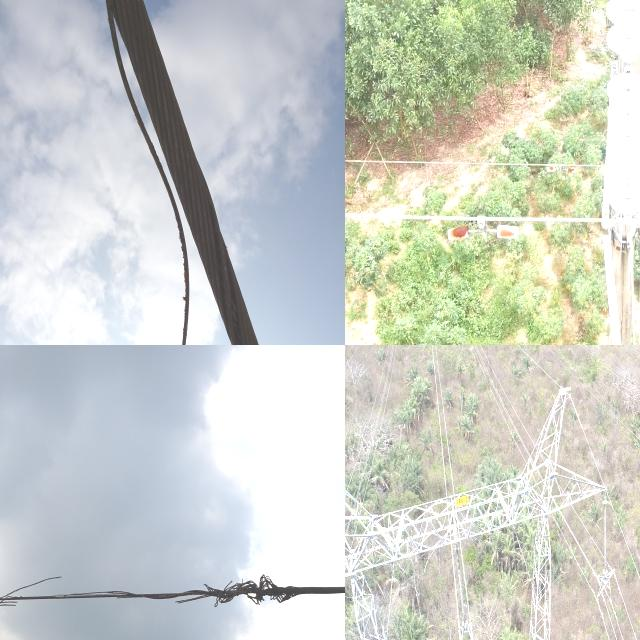杆塔: (345, 375, 609, 640)
正常电缆: (345, 148, 640, 190), (345, 204, 640, 242)
正常绝缘子: (599, 0, 640, 258), (453, 543, 468, 627), (601, 495, 611, 580)
电缆破损: (78, 0, 276, 345), (0, 550, 296, 632)
绝缘子破损: (620, 56, 637, 78)
